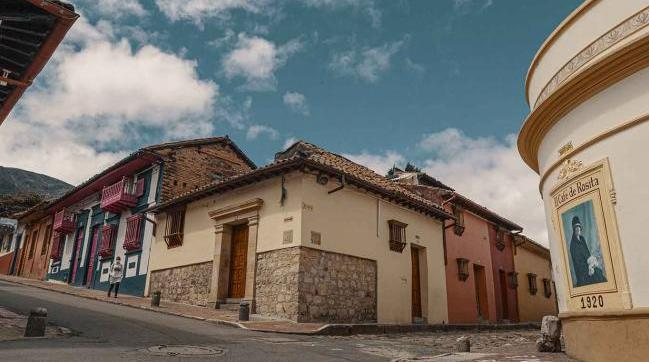casa: (145, 139, 446, 334), (50, 135, 150, 295)
